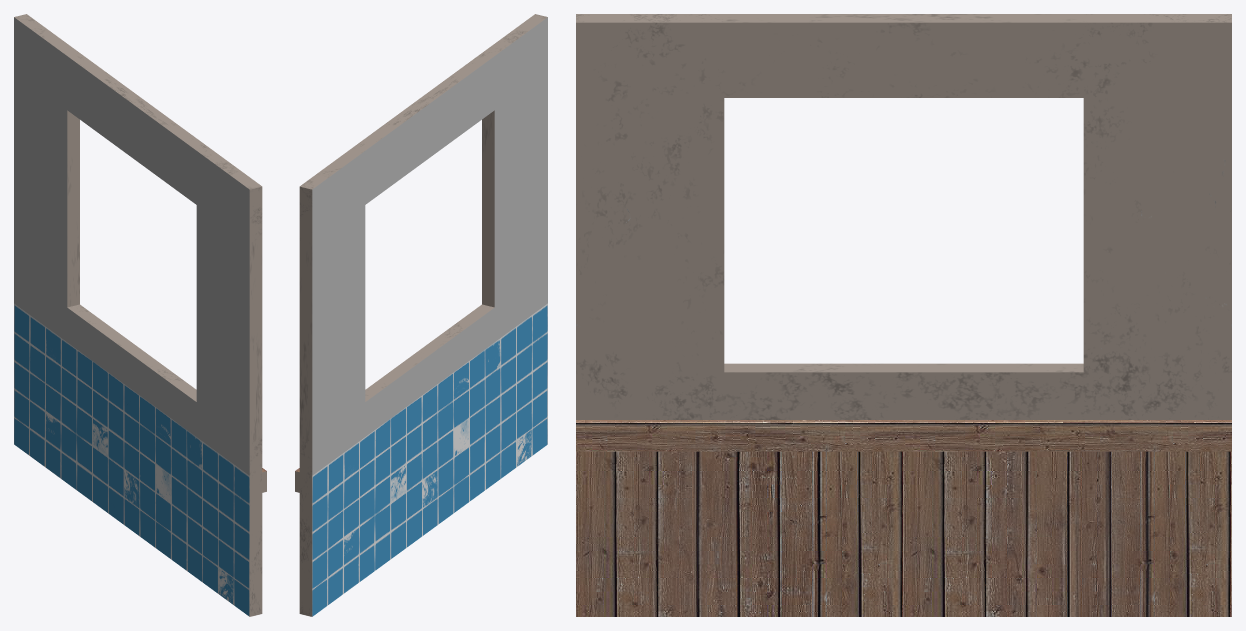
The model's file is WallHalfWoodWindow.fbx.
The picture shows the model from 3 angles, left to right: view 1: azimuth 30°, elevation 25°; view 2: azimuth 150°, elevation 25°; view 3: azimuth 270°, elevation 25°; orthographic projection. The views are drawn at different scales.
Visible parts, largest first — view 1: Cube; view 2: Cube; view 3: Cube.
Part boxes in pixels (bbox=[...]): Cube: bbox=[14, 14, 266, 616]; Cube: bbox=[295, 14, 547, 616]; Cube: bbox=[576, 14, 1231, 616].
Bounding box in the file's own units: 16.85 × 400 × 400.
